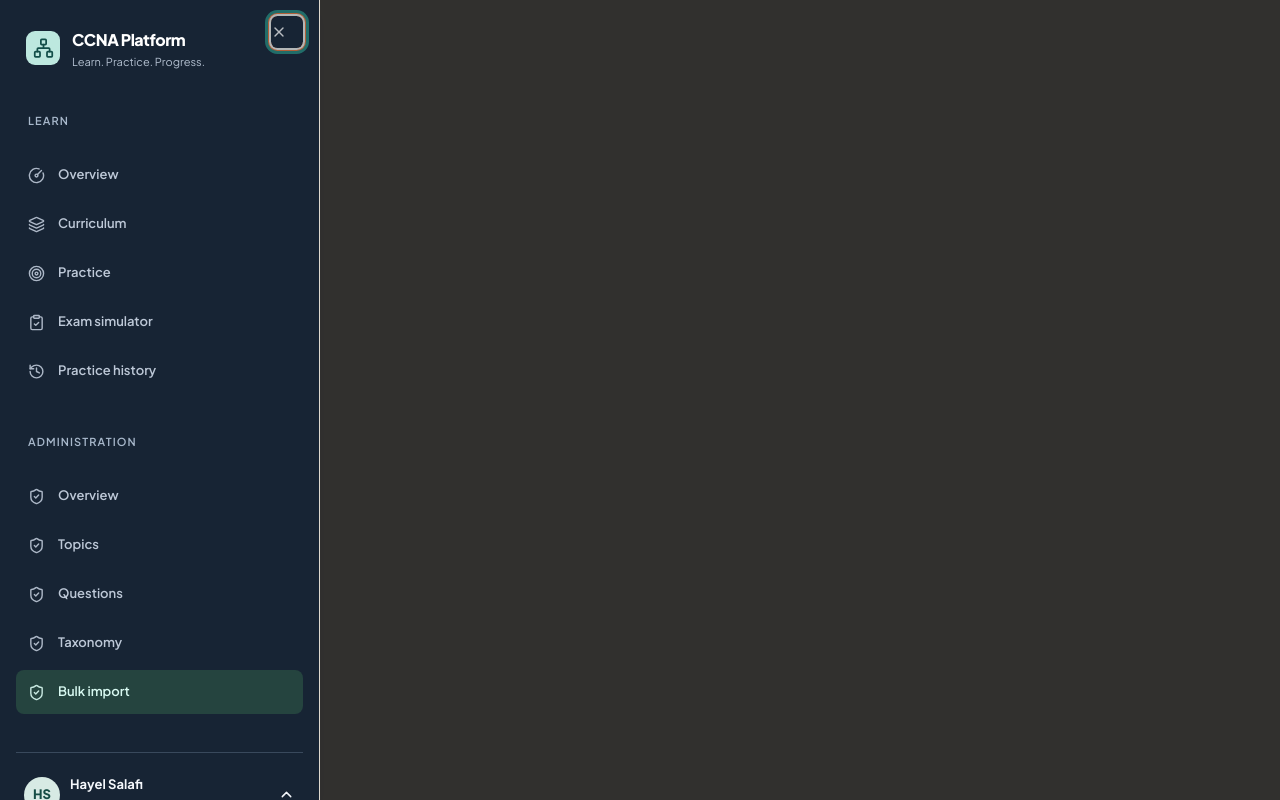
Test: mobile drawer has named navigation, an active module and closes after navigation
The image size is (1280, 800).
Earlier steps of the test are not shown.
Expected: the dialog is shown, [0,0,320,799]
Expected: the navigation bar named "Administration navigation" is shown, [16,474,303,714]
Click the link "Questions".
click(75, 594)  # box [28,585,123,603]
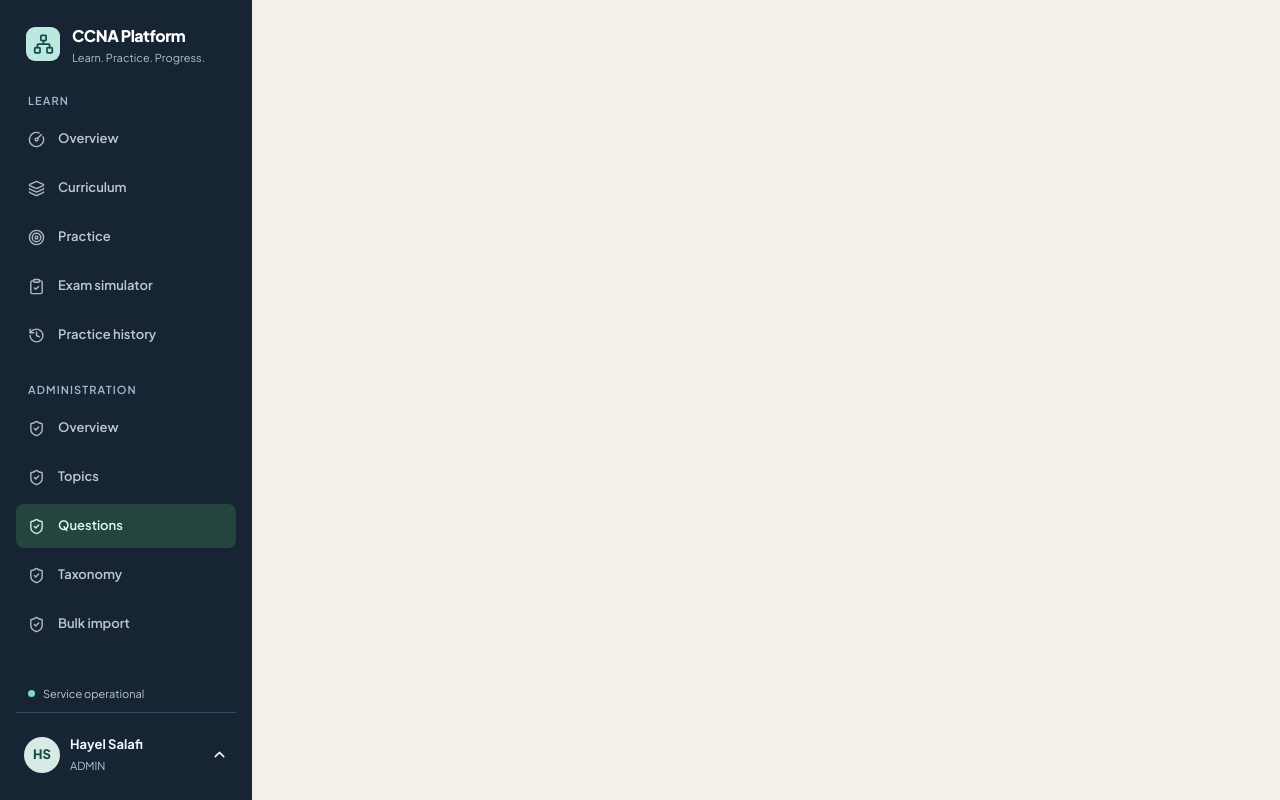
Now the dialog is gone
